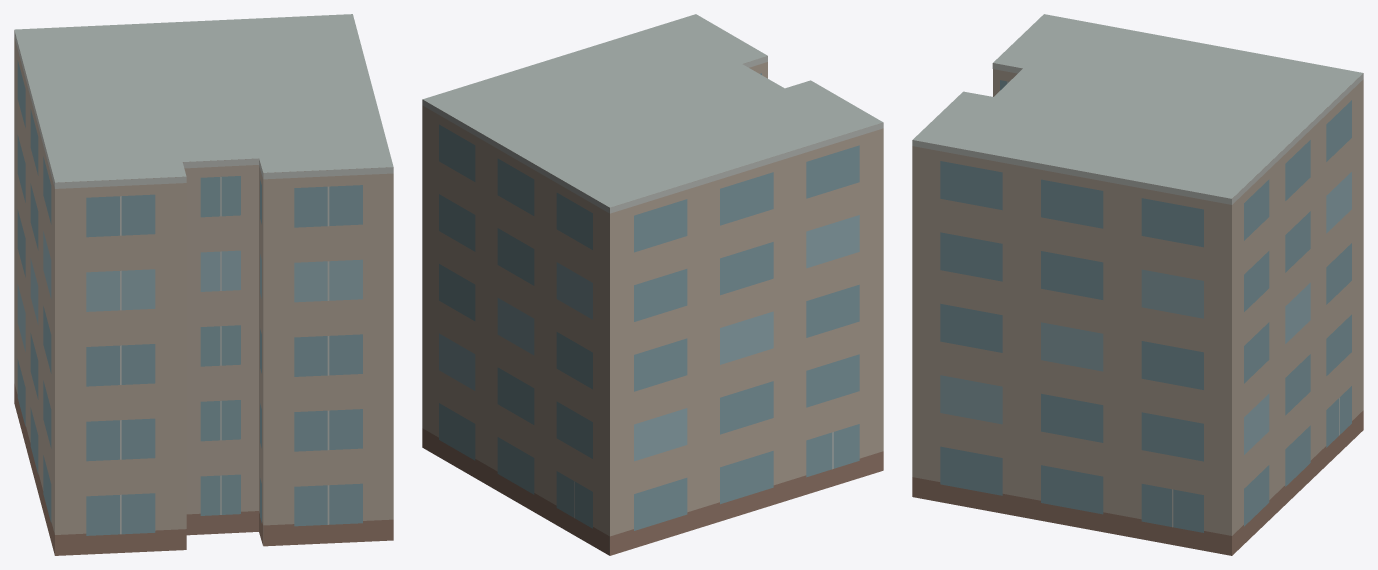
The model's file is survey-upis-33033397.glb.
3 views of the same model, side by side, from view 1: azimuth 30°, elevation 25°; view 2: azimuth 150°, elevation 25°; view 3: azimuth 270°, elevation 25° (orthographic). The views are drawn at different scales.
Parts seen in each view (by area): view 1: survey-upis-33033397.tmp; view 2: survey-upis-33033397.tmp; view 3: survey-upis-33033397.tmp.
Part boxes in pixels (bbox=[...]): survey-upis-33033397.tmp: bbox=[14, 14, 393, 555]; survey-upis-33033397.tmp: bbox=[422, 14, 883, 555]; survey-upis-33033397.tmp: bbox=[912, 14, 1363, 555].
Bounding box in the file's own units: 15.78 × 14.2 × 16.27.
